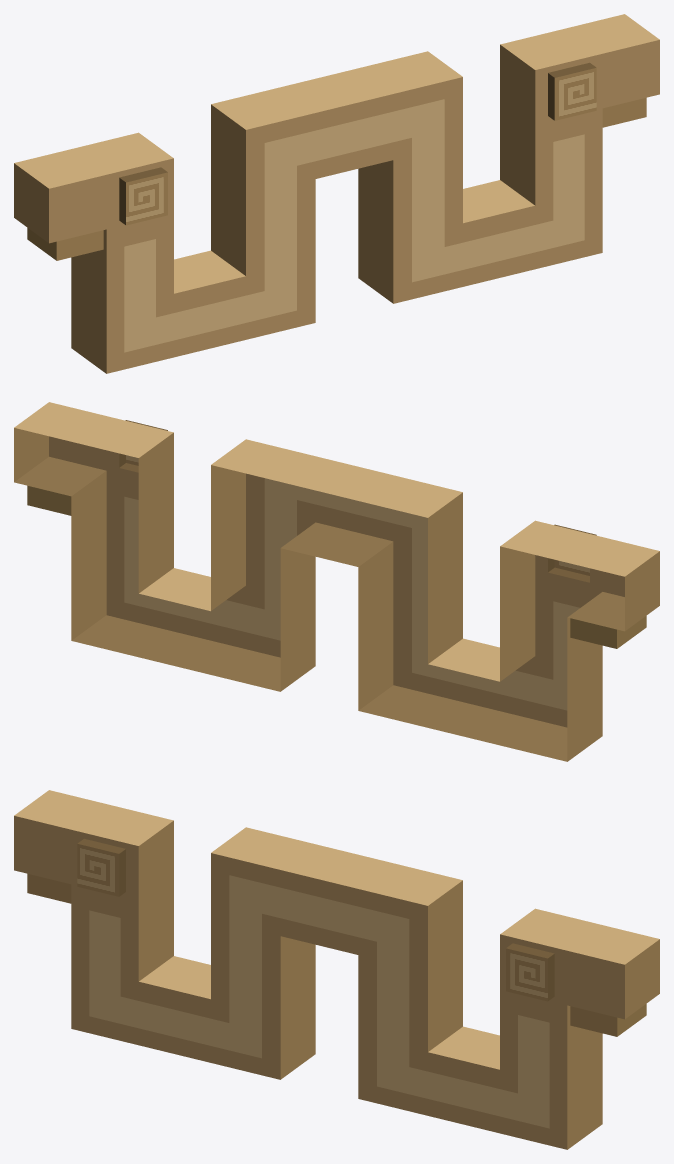
File: ST_Prop_WallDeco_01.fbx
The picture shows the model from 3 angles, top to bottom: view 1: azimuth 30°, elevation 25°; view 2: azimuth 150°, elevation 25°; view 3: azimuth 330°, elevation 25°; orthographic projection.
Parts seen in each view (by area): view 1: ST_Prop_WallDeco_01; view 2: ST_Prop_WallDeco_01; view 3: ST_Prop_WallDeco_01.
Part boxes in pixels (box(x1,y1,x2,y2)): ST_Prop_WallDeco_01: box(14, 14, 659, 373); ST_Prop_WallDeco_01: box(14, 402, 659, 761); ST_Prop_WallDeco_01: box(14, 790, 659, 1149).
Size of the model in its own units: 3.36 by 1.1 by 0.4007.
